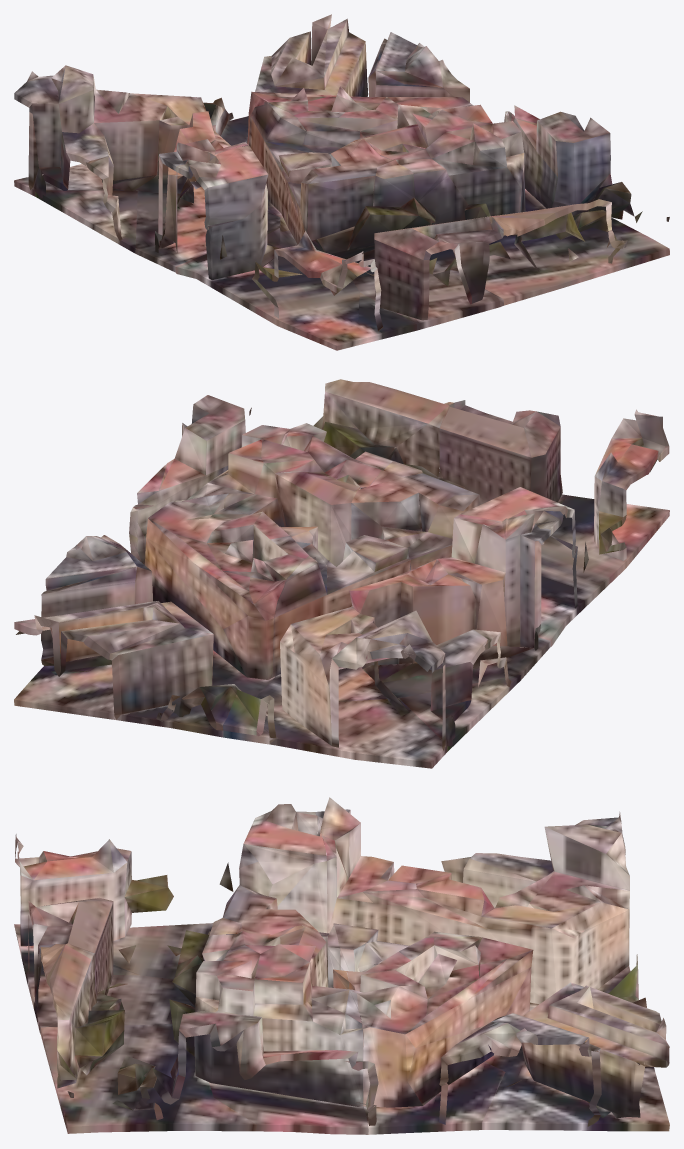
3 views of the same model, one above another, from view 1: azimuth 30°, elevation 25°; view 2: azimuth 150°, elevation 25°; view 3: azimuth 270°, elevation 25° (orthographic). The views are drawn at different scales.
Visible parts, largest first — view 1: Mesh_0; view 2: Mesh_0; view 3: Mesh_0.
Boxes of the visible parts, box(x1,y1,x2,y2) form: Mesh_0: box(14, 14, 669, 350); Mesh_0: box(14, 379, 669, 768); Mesh_0: box(14, 797, 669, 1134).
Size of the model in its own units: 133 by 44.09 by 165.
Materials: 1 (1 with a texture image).
